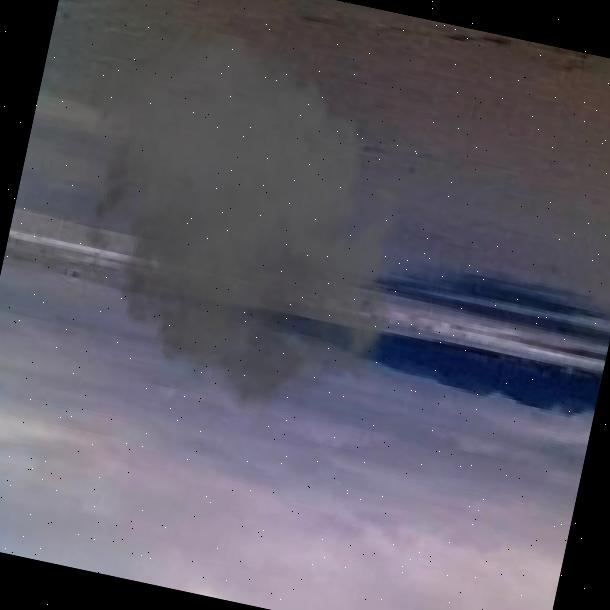smoke: (28, 0, 456, 459)
